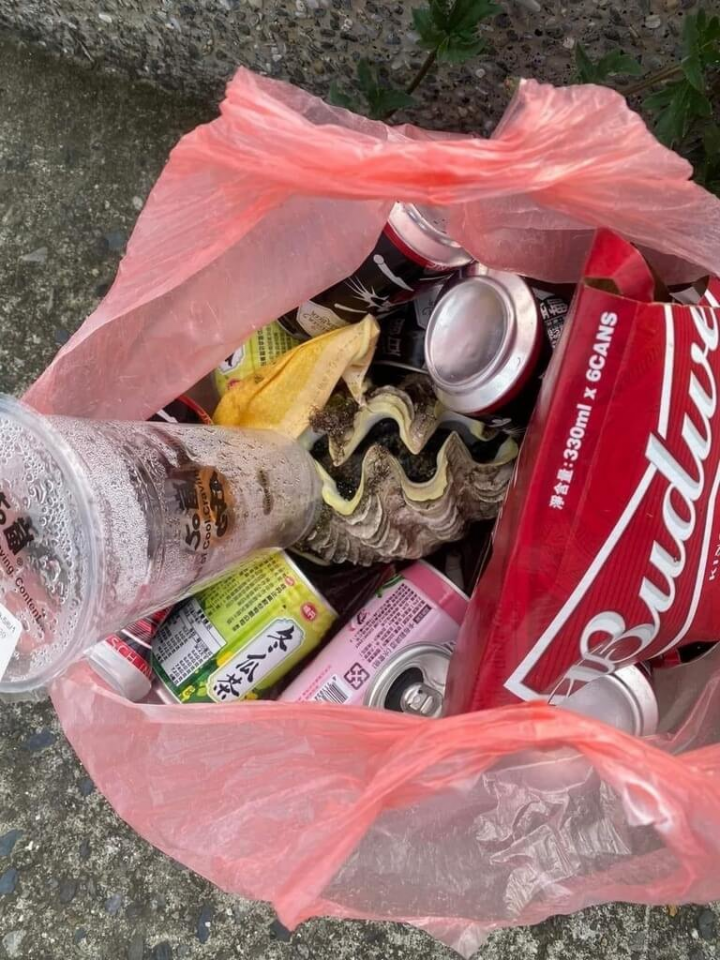metal: (281, 566, 455, 738), (171, 545, 326, 728), (413, 268, 569, 404)
paper: (458, 244, 720, 735)
plastic: (2, 416, 315, 654)
